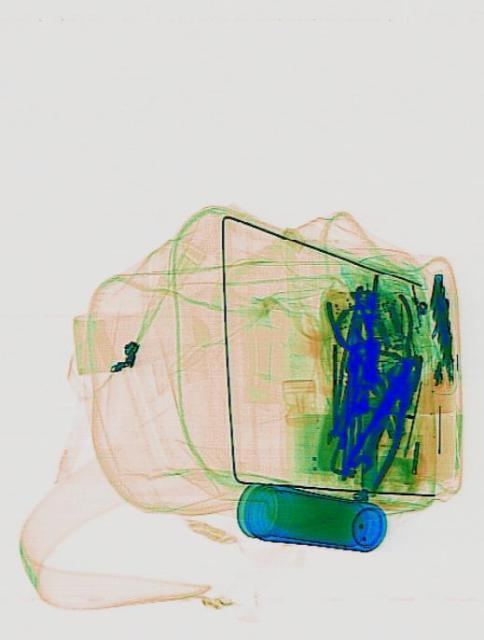Pliers: (334, 341, 435, 501), (354, 290, 431, 384)
